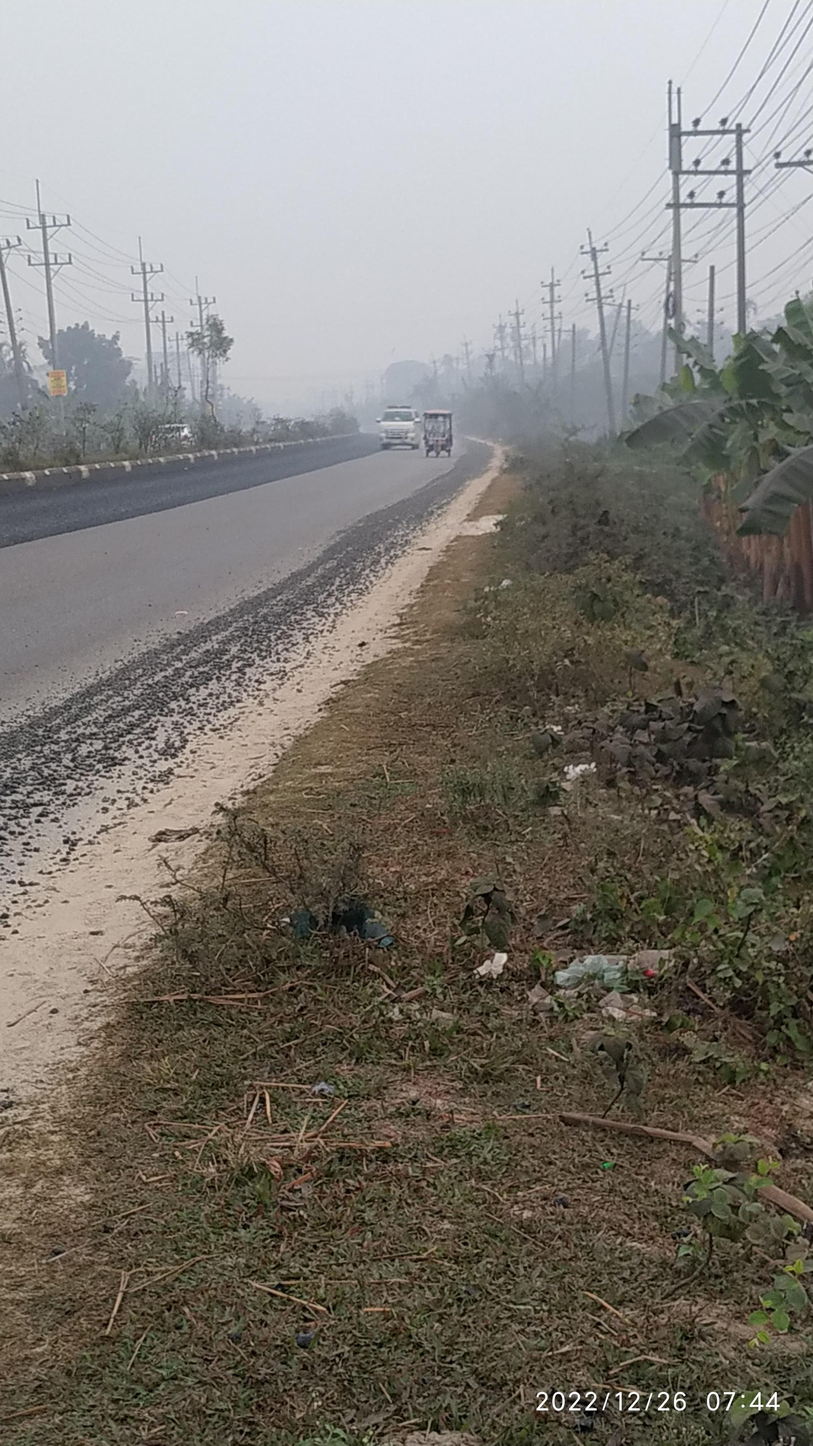Car: (412, 398, 474, 471), (369, 399, 430, 456)
